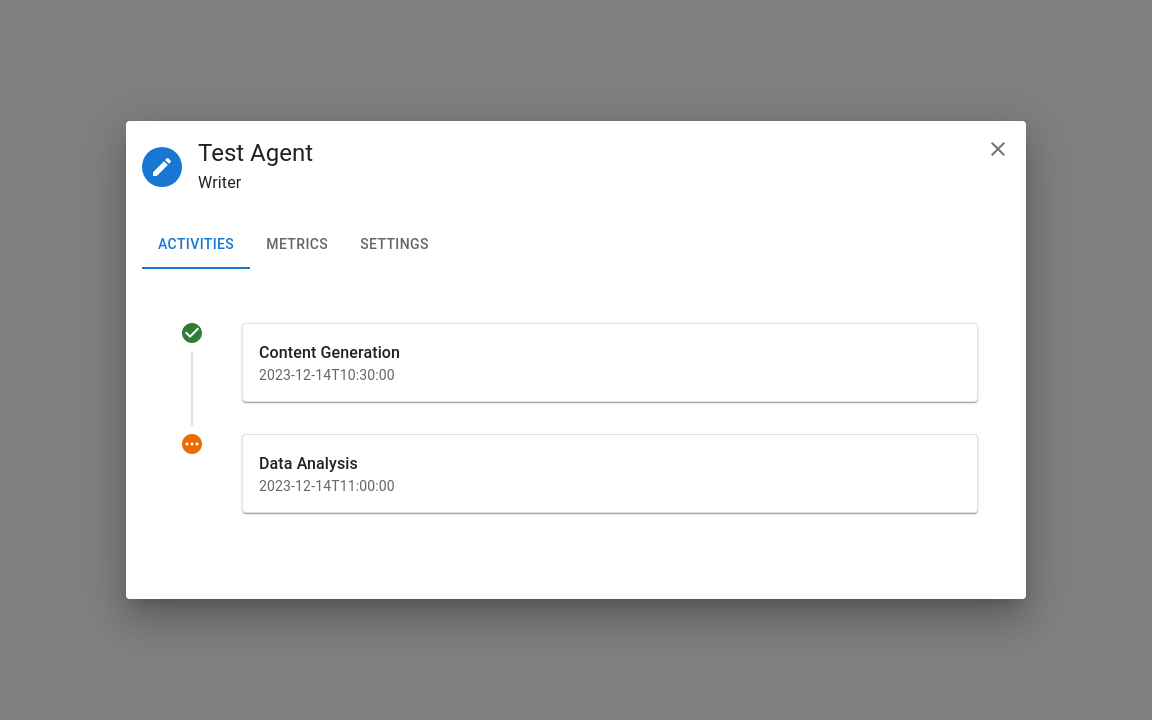
AgentDetails › displays metrics correctly
Note: Click on Metrics tab
Click the tab "Metrics" at (297, 245), box [250,221,344,269]
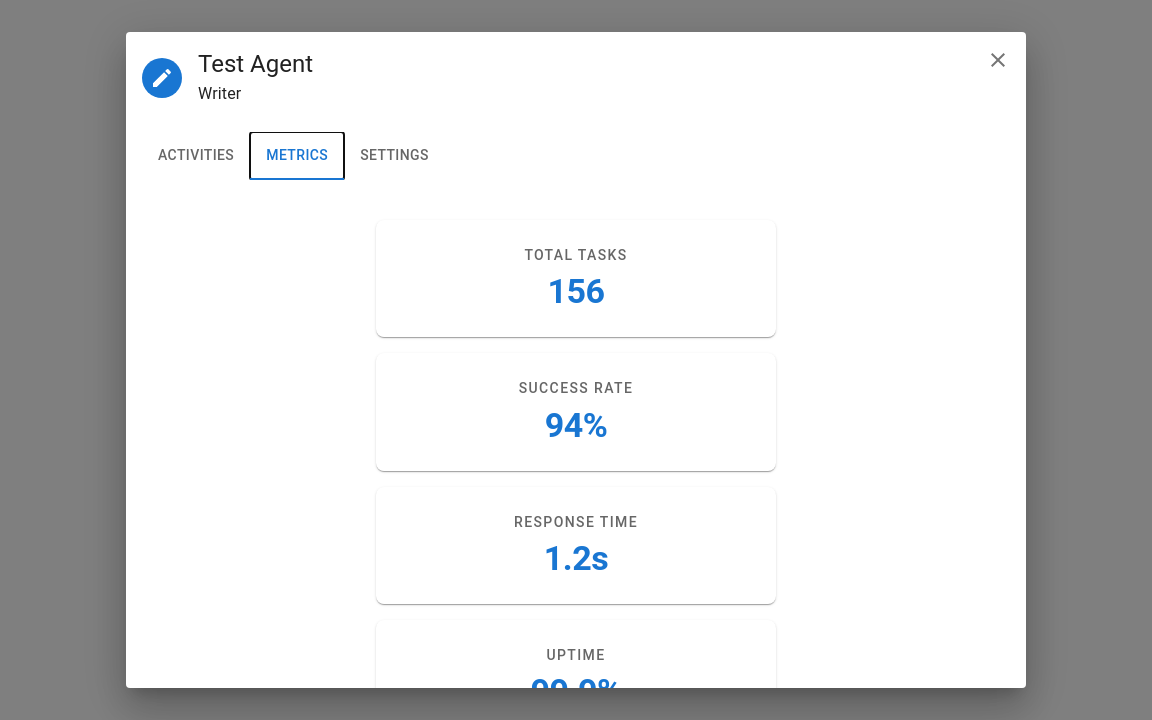
Check: the heading "Total Tasks" is shown, box [524,247,628,263]
Check: the heading "156" is shown, box [548,271,604,311]
Check: the heading "Success Rate" is shown, box [519,380,633,396]
